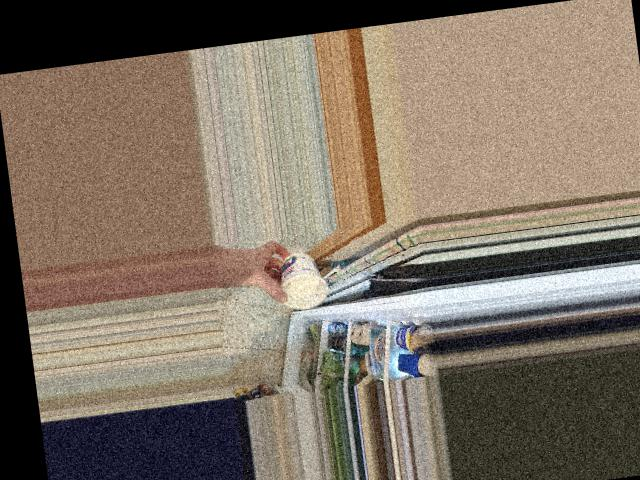cotage: (275, 252, 327, 316)
